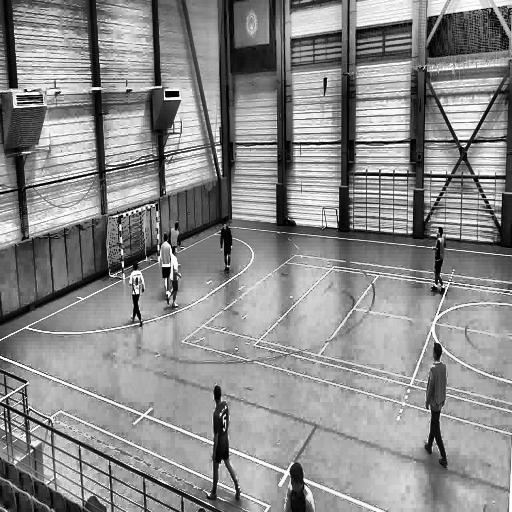player: (206, 384, 242, 503), (424, 342, 449, 471), (127, 257, 147, 330), (430, 226, 448, 296), (218, 219, 234, 276), (167, 247, 181, 312), (169, 220, 182, 248), (159, 232, 169, 253)
